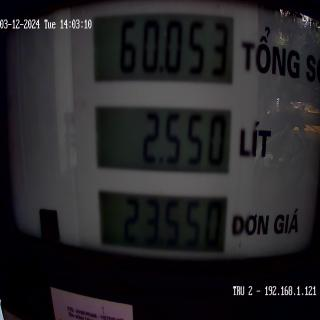screen: (89, 0, 240, 273)
